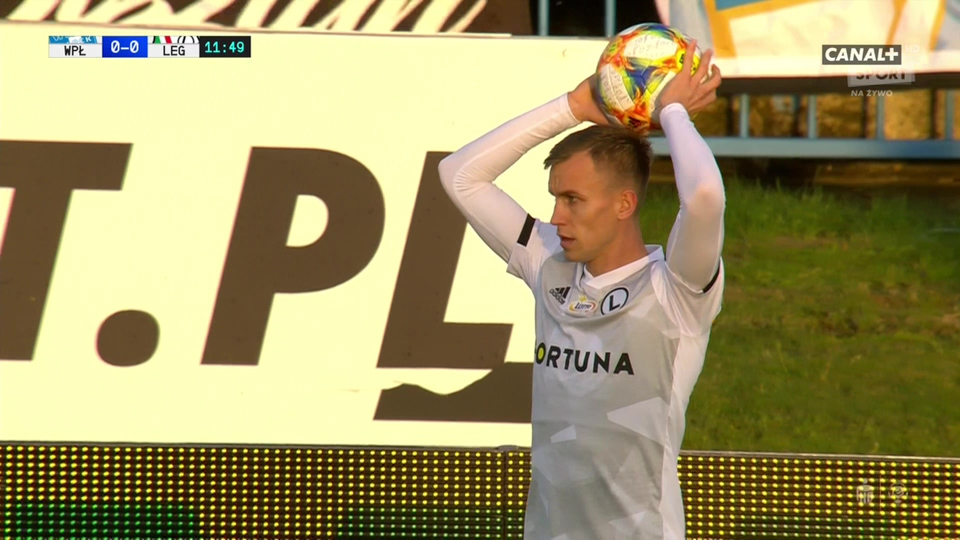Adidas: (547, 283, 572, 304)
